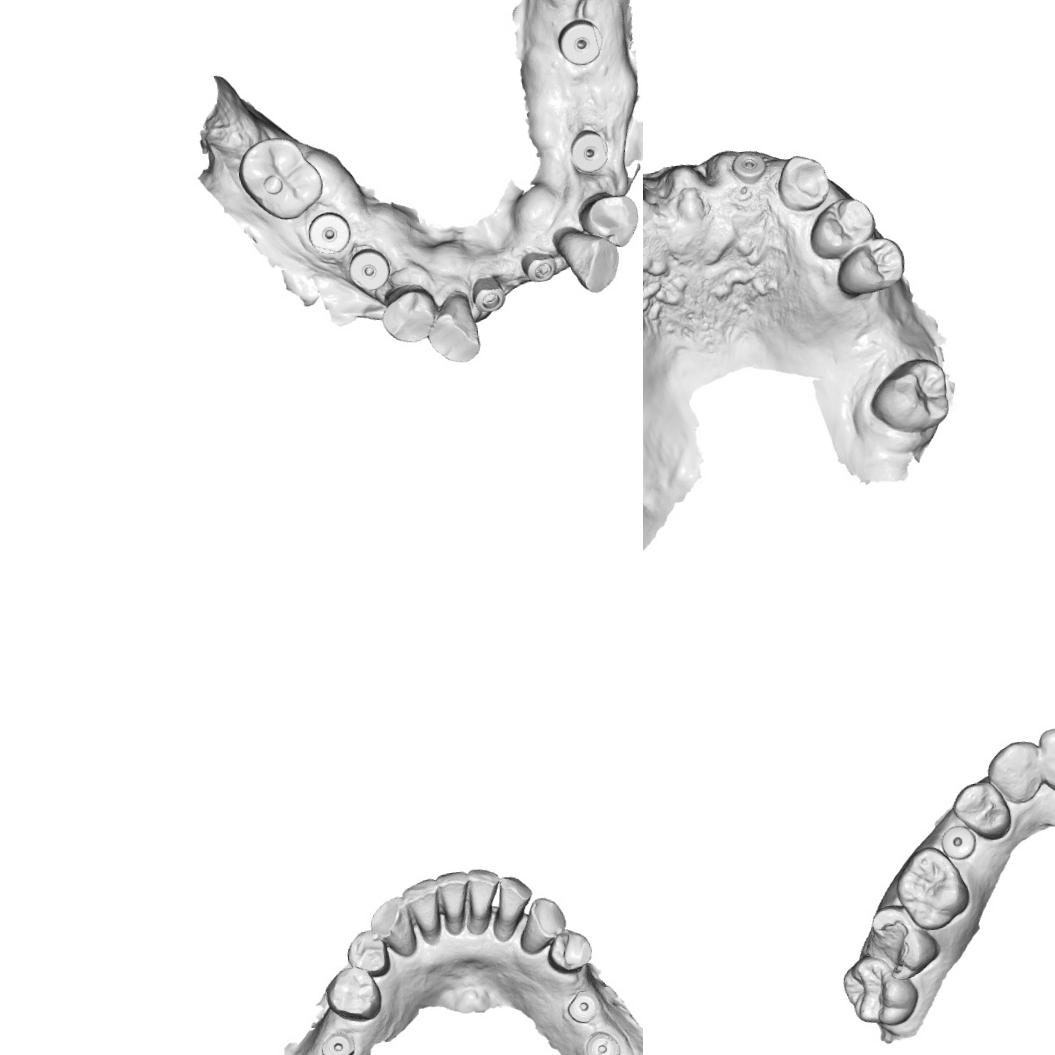canine: (556, 227, 624, 297), (984, 734, 1046, 810), (420, 294, 481, 368), (772, 150, 838, 216), (364, 893, 420, 962), (514, 892, 572, 958)
implant: (553, 16, 607, 70), (304, 207, 354, 257), (566, 126, 611, 176), (346, 246, 392, 290), (470, 272, 510, 316), (938, 822, 979, 864), (563, 986, 601, 1026), (521, 246, 556, 284), (732, 152, 768, 184), (318, 1028, 358, 1055)
implant_minus: (580, 1027, 624, 1055)
incisor: (400, 876, 446, 939), (460, 865, 505, 924), (490, 871, 536, 928), (432, 868, 474, 924), (1030, 722, 1055, 799)
molar: (235, 133, 327, 225), (890, 838, 972, 936), (863, 353, 954, 438), (834, 952, 923, 1035)
premolar: (802, 192, 879, 263), (830, 232, 910, 300), (948, 776, 1013, 846), (321, 961, 388, 1027), (575, 187, 643, 252), (376, 284, 439, 348), (544, 924, 596, 978), (343, 927, 393, 981)
